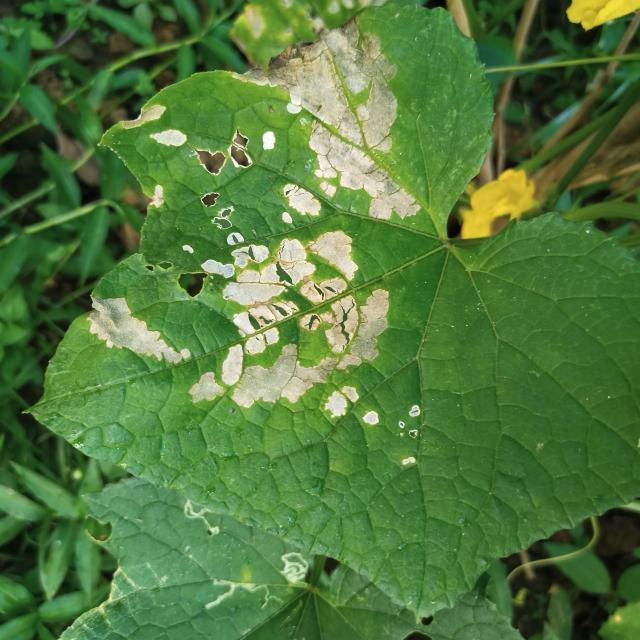disease_cucumber: (80, 220, 395, 429), (122, 18, 424, 225), (391, 396, 435, 472)
